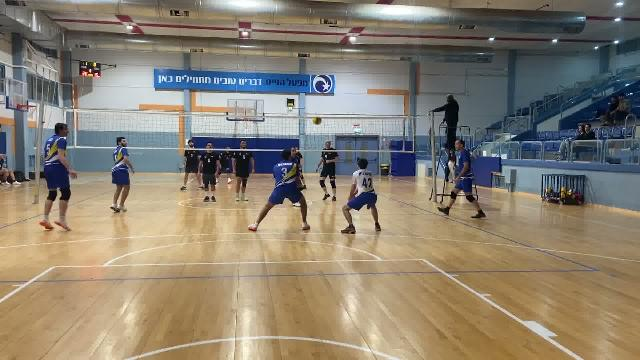ball: (313, 113, 324, 125)
